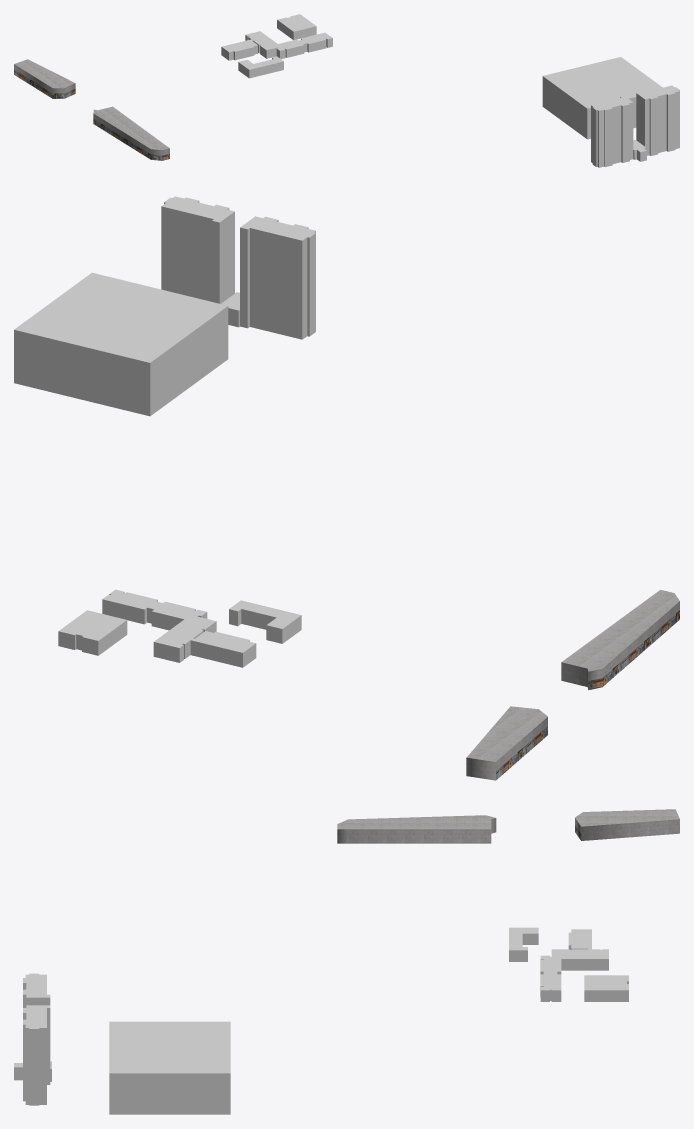
The model's file is builder_26.FBX.
The picture shows the model from 3 angles, top to bottom: view 1: azimuth 30°, elevation 25°; view 2: azimuth 150°, elevation 25°; view 3: azimuth 270°, elevation 25°; orthographic projection. The views are drawn at different scales.
Parts seen in each view (by area): view 1: BLD-Type-35-001, Box002, BLD-Type-30-001, Plane013; view 2: Box002, BLD-Type-35-001, BLD-Type-30-001, Plane013; view 3: Box002, Plane013, BLD-Type-30-001, BLD-Type-35-001.
Part boxes in pixels (x1=…): BLD-Type-35-001: x1=591, y1=85, x2=679, y2=167; Box002: x1=542, y1=57, x2=662, y2=139; BLD-Type-30-001: x1=221, y1=14, x2=332, y2=78; Plane013: x1=14, y1=59, x2=169, y2=160; Box002: x1=14, y1=272, x2=228, y2=416; BLD-Type-35-001: x1=161, y1=196, x2=315, y2=339; BLD-Type-30-001: x1=58, y1=589, x2=301, y2=667; Plane013: x1=466, y1=589, x2=679, y2=780; Box002: x1=109, y1=1021, x2=230, y2=1114; Plane013: x1=337, y1=809, x2=679, y2=843; BLD-Type-30-001: x1=509, y1=927, x2=628, y2=1001; BLD-Type-35-001: x1=14, y1=973, x2=51, y2=1105.
Size of the model in its own units: 521432 by 64170 by 503967.
